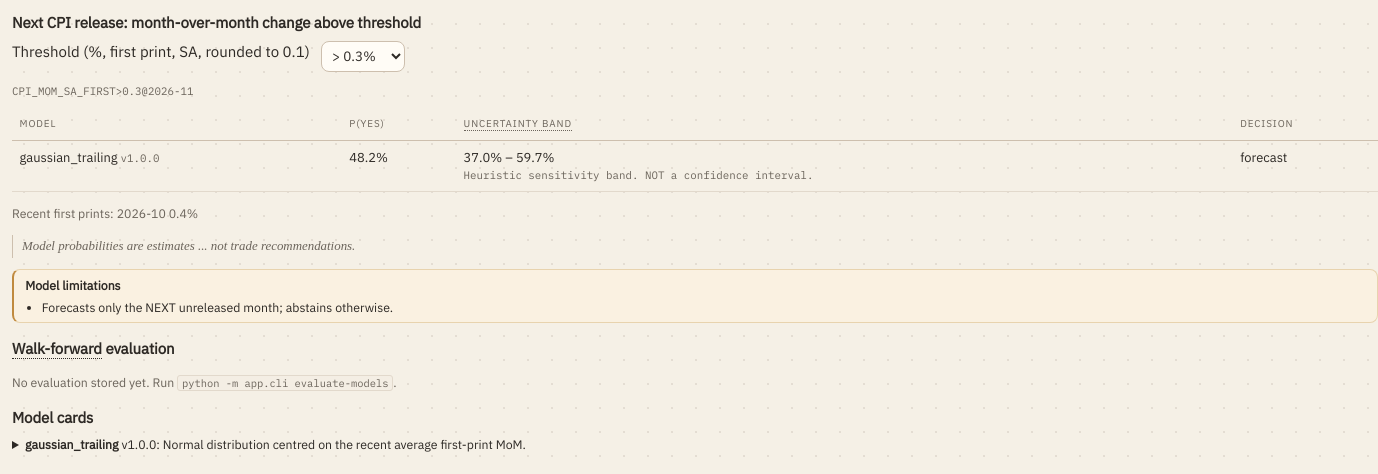
Test: <ModelsPanel> › refetches when the threshold changes; shows empty-evaluation hint
This screenshot has width=1378, height=474.
Expected: the text "48.2%" is shown, [342, 140, 456, 192]
Step 1. Select "> 0.5%" in the dropdown labelled "Threshold (%, first print, SA, rounded to 0.1)" → (363, 56), box [321, 40, 405, 72]
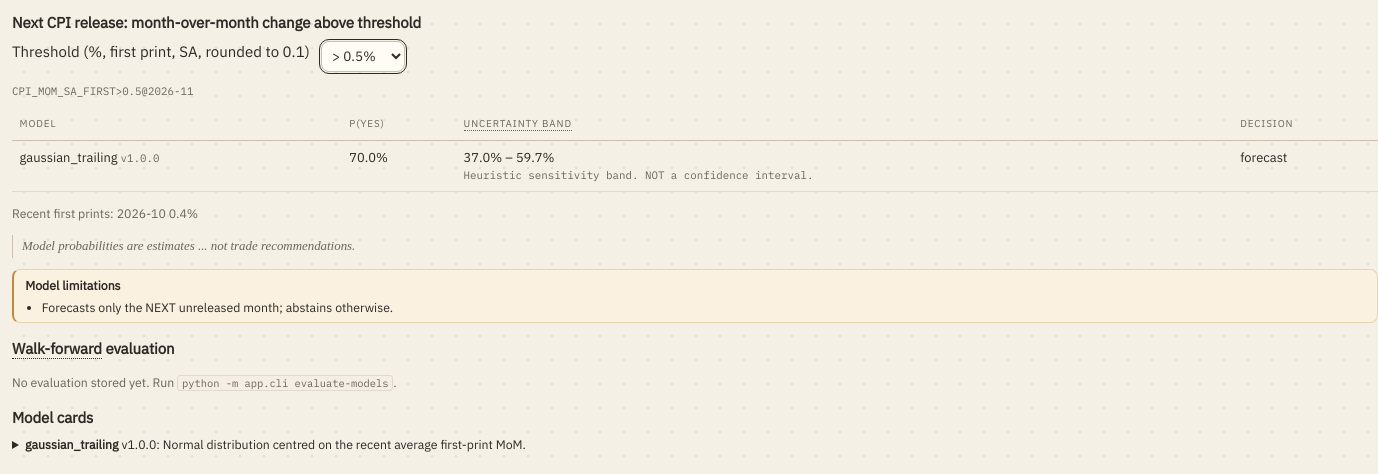
Expected: the text "No evaluation stored yet" is shown, [12, 374, 177, 390]
Now the text "70.0%" is shown, box [342, 140, 456, 192]
